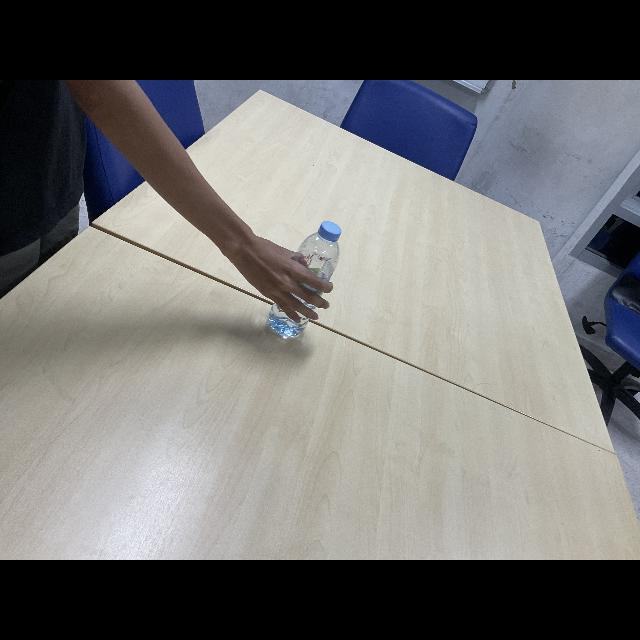plastic_bottle: (266, 218, 342, 344)
plastic_bottle_cap: (316, 218, 344, 244)
